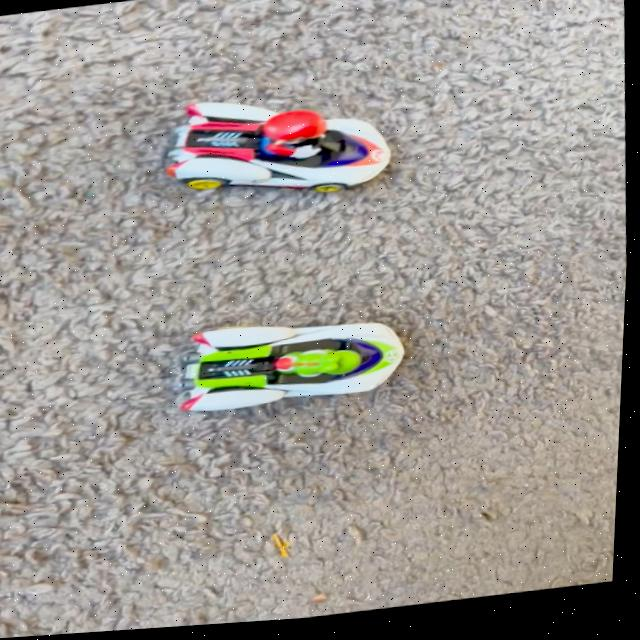mario: (149, 76, 417, 223)
yoshi: (168, 284, 433, 424)
